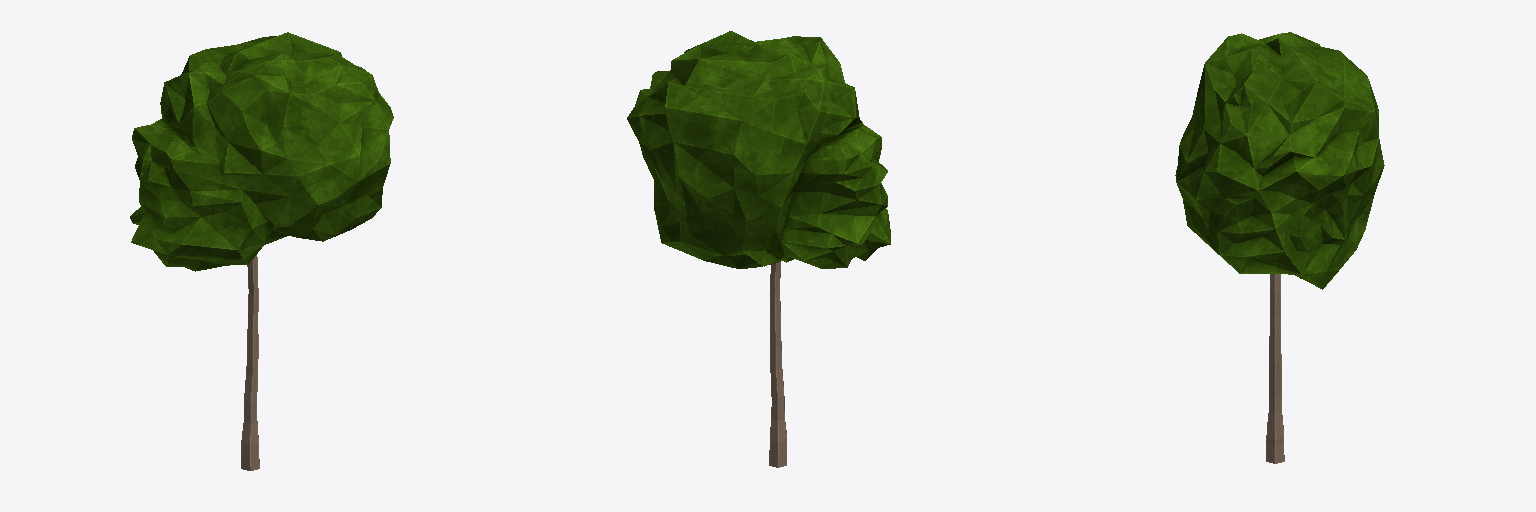
3 views of the same model, side by side, from view 1: azimuth 30°, elevation 25°; view 2: azimuth 150°, elevation 25°; view 3: azimuth 270°, elevation 25° (orthographic).
Parts seen in each view (by area): view 1: BrazilNutTree_mesh; view 2: BrazilNutTree_mesh; view 3: BrazilNutTree_mesh.
Boxes of the visible parts, <box> form: BrazilNutTree_mesh: <box>130,32,393,470</box>; BrazilNutTree_mesh: <box>627,31,890,467</box>; BrazilNutTree_mesh: <box>1175,32,1384,463</box>.
Size of the model in its own units: 8.95 by 14.25 by 6.51.
Materials: 1 (1 with a texture image).